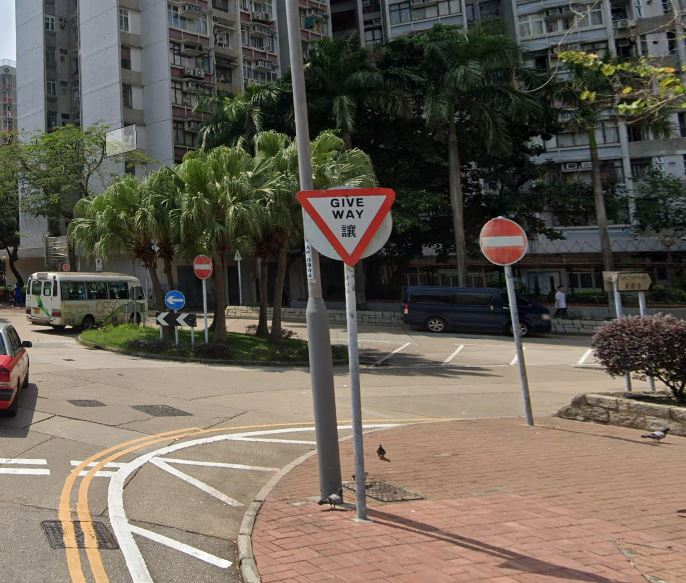Give Way: (294, 186, 398, 268)
No Enter: (479, 216, 529, 269), (192, 252, 214, 283)
Turn Left: (165, 292, 187, 312)
Turn Left(quick): (156, 312, 196, 328)
